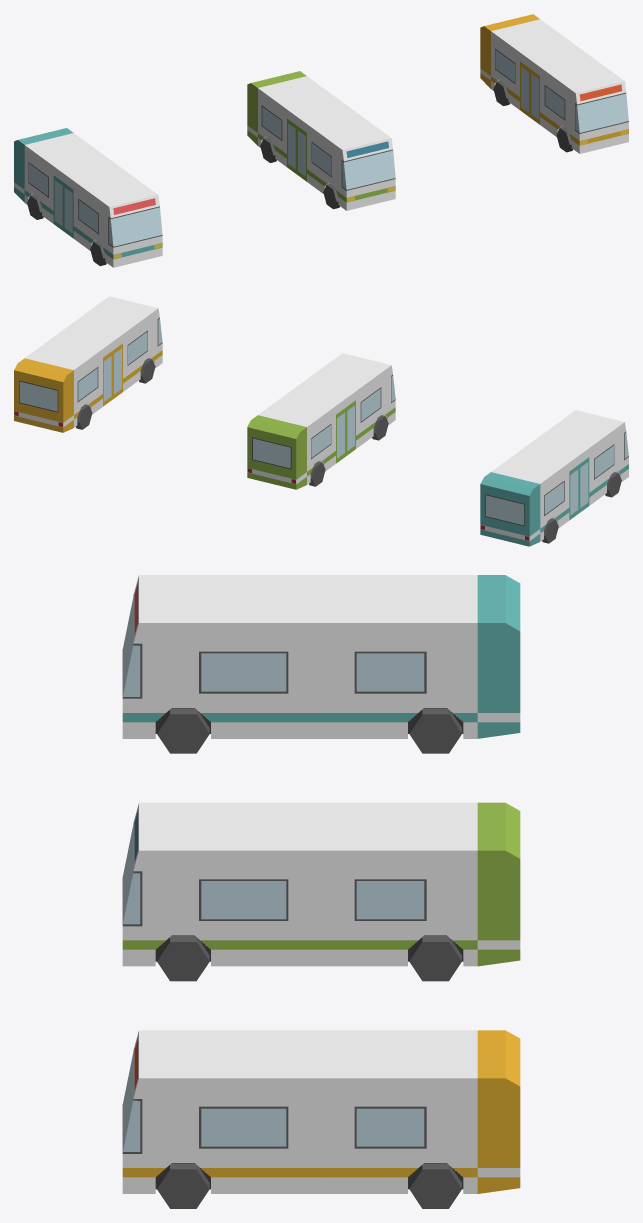
The model's file is city_buses.glb.
The picture shows the model from 3 angles, top to bottom: view 1: azimuth 30°, elevation 25°; view 2: azimuth 150°, elevation 25°; view 3: azimuth 270°, elevation 25°; orthographic projection. The views are drawn at different scales.
Visible parts, largest first — view 1: Bus_1_Mat_0; view 2: Bus_1_Mat_0; view 3: Bus_1_Mat_0.
Boxes of the visible parts, left/top/right/bottom form: Bus_1_Mat_0: left=14, top=14, right=628, bottom=267; Bus_1_Mat_0: left=14, top=296, right=628, bottom=546; Bus_1_Mat_0: left=122, top=575, right=520, bottom=1208.
Bounding box in the file's own units: 6.81 × 0.8103 × 2.26.
1 material, 1 textured.
